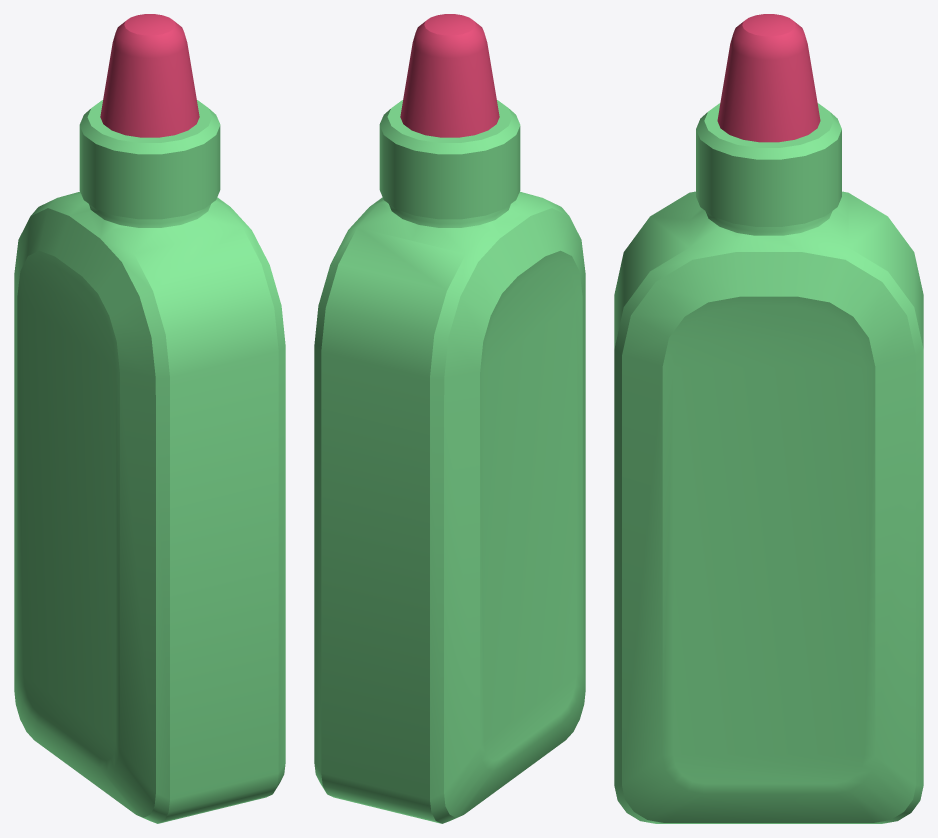
The model's file is SM_Bottle.fbx.
3 views of the same model, side by side, from view 1: azimuth 30°, elevation 25°; view 2: azimuth 150°, elevation 25°; view 3: azimuth 270°, elevation 25° (orthographic). The views are drawn at different scales.
Parts seen in each view (by area): view 1: Body, Cap; view 2: Body, Cap; view 3: Body, Cap.
Boxes of the visible parts, x1,y1,x2,y2 form: Body: [14, 100, 285, 823]; Cap: [100, 14, 199, 137]; Body: [314, 100, 585, 823]; Cap: [400, 14, 499, 137]; Body: [614, 103, 923, 823]; Cap: [717, 14, 820, 142].
Bounding box in the file's own units: 0.018 × 0.0788 × 0.0285.
